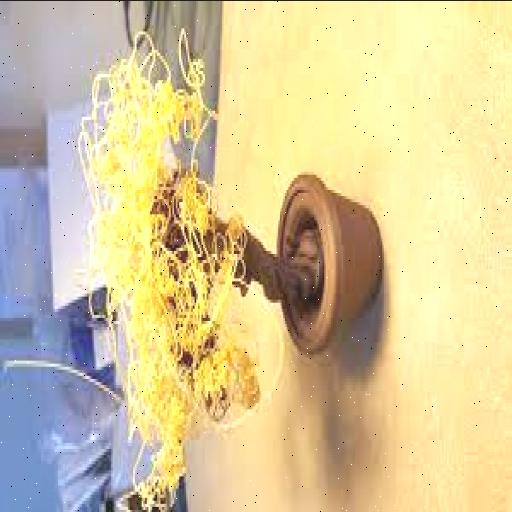spaghetti: (64, 42, 242, 443)
